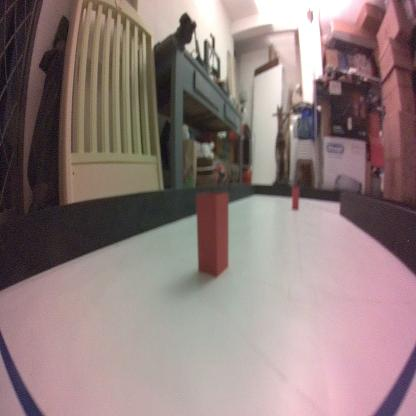red: (197, 189, 228, 276), (292, 185, 299, 209)
